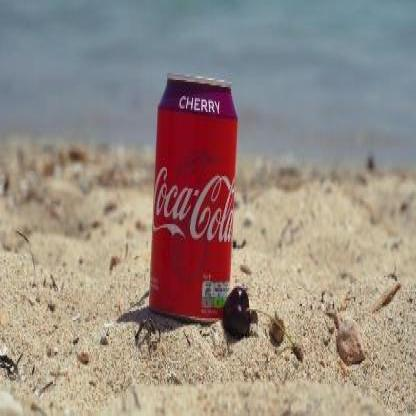alumunium_can: (147, 71, 239, 320)
